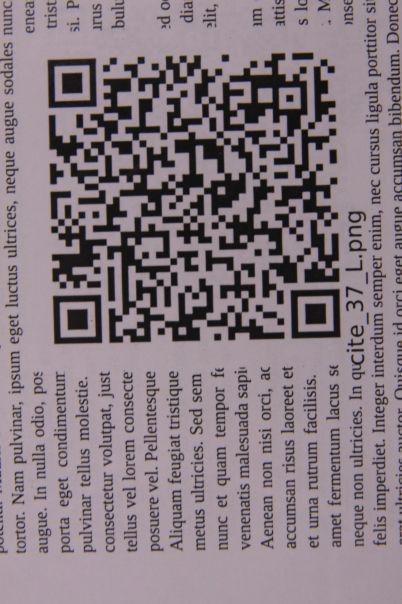Finder pattern: (40, 53, 103, 111), (49, 289, 107, 349), (287, 285, 345, 343)
